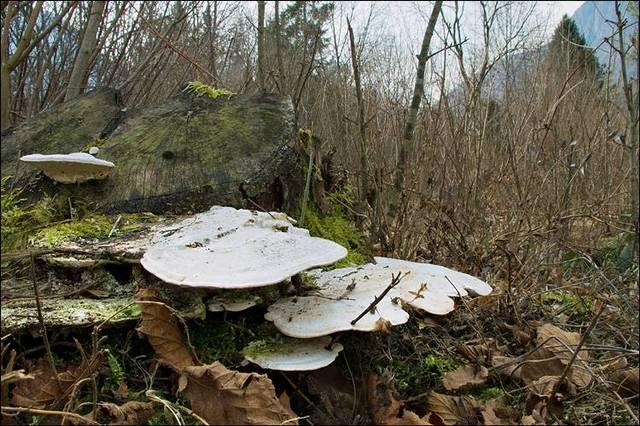poisonous_mushroom: (126, 190, 495, 389), (17, 148, 115, 186)
